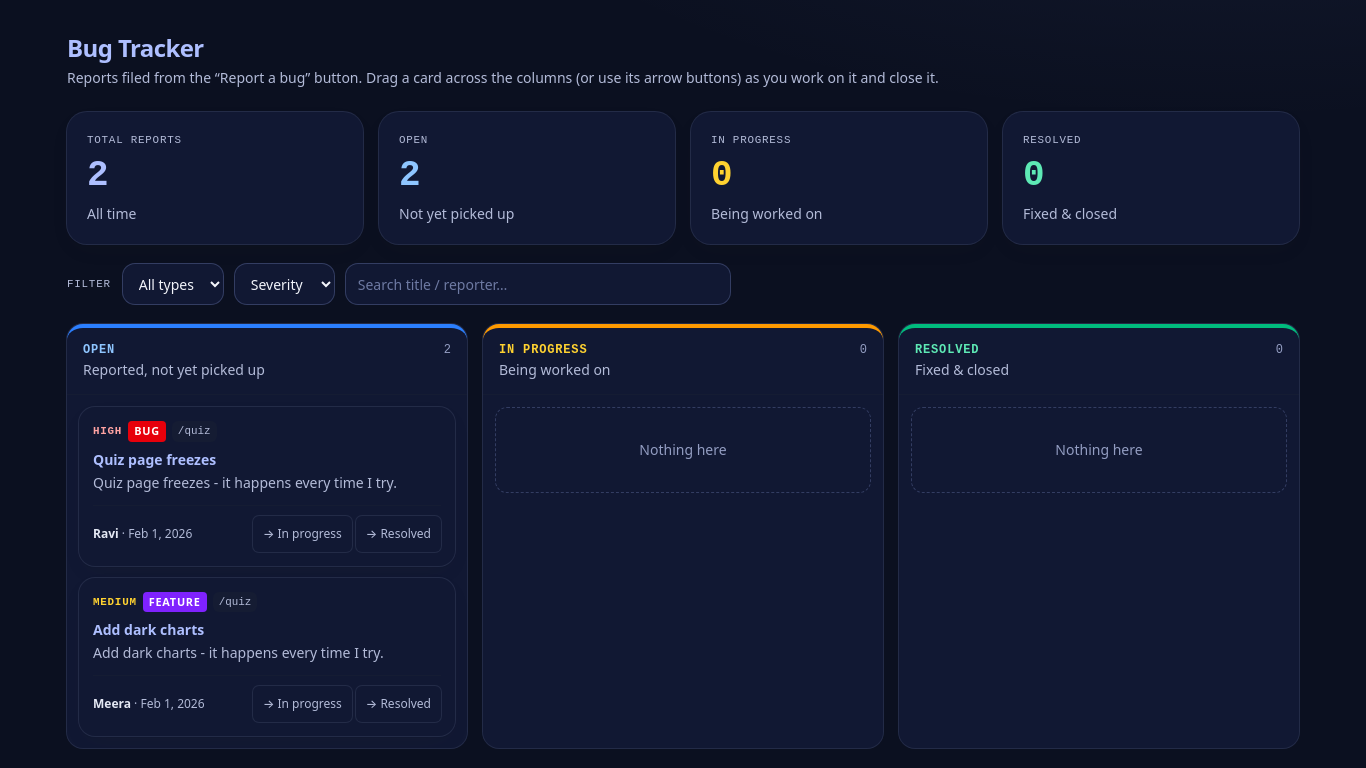
Test: Bug Tracker board › filters by type, severity and title/reporter in the browser
Expected: the button "Quiz page freezes" is shown, [93,440,216,479]
Select "Feature" in the 1st dropdown named "Type" at point(173, 284), box [123,264,223,304]
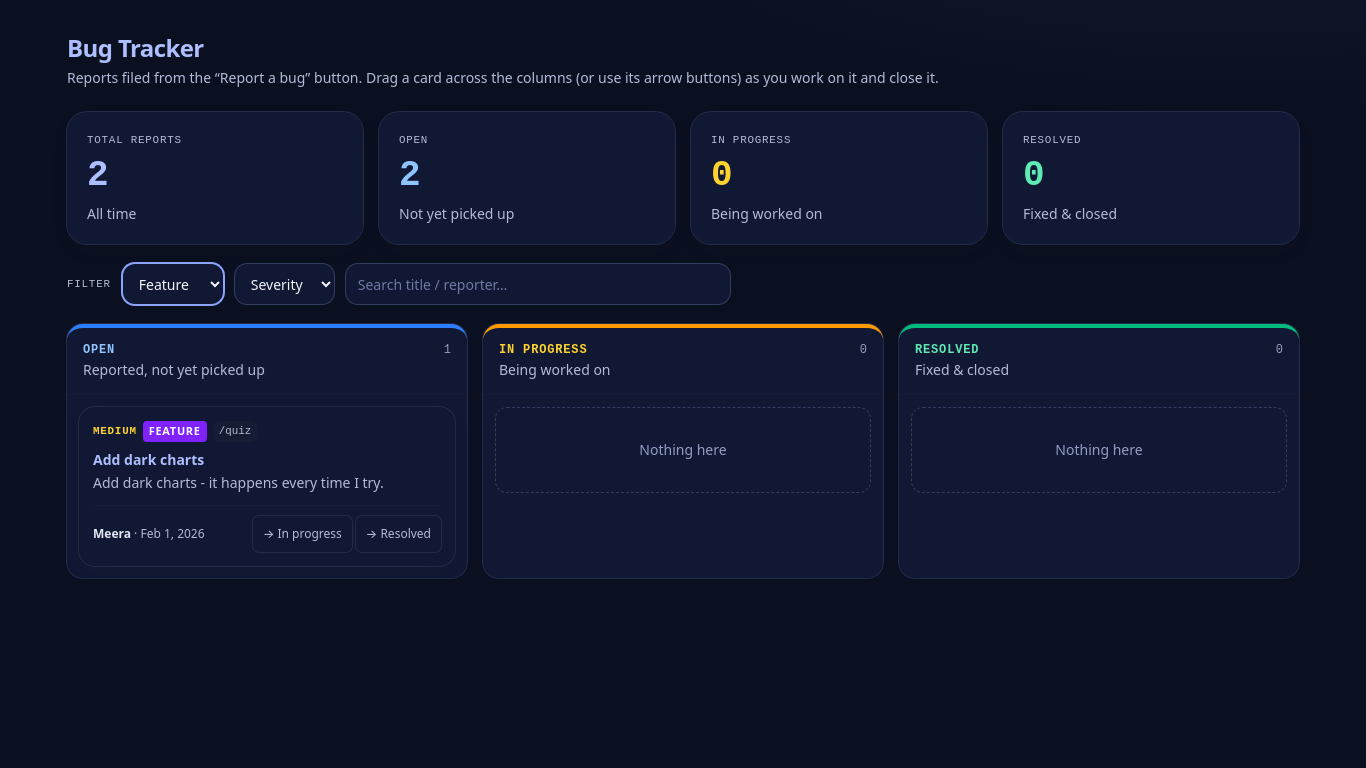
Expected: the button "Add dark charts" is shown, [93,440,204,479]
Result: the button "Quiz page freezes" is gone
Select "All types" in the 1st dropdown named "Type" at point(173, 284), box [123,264,223,304]
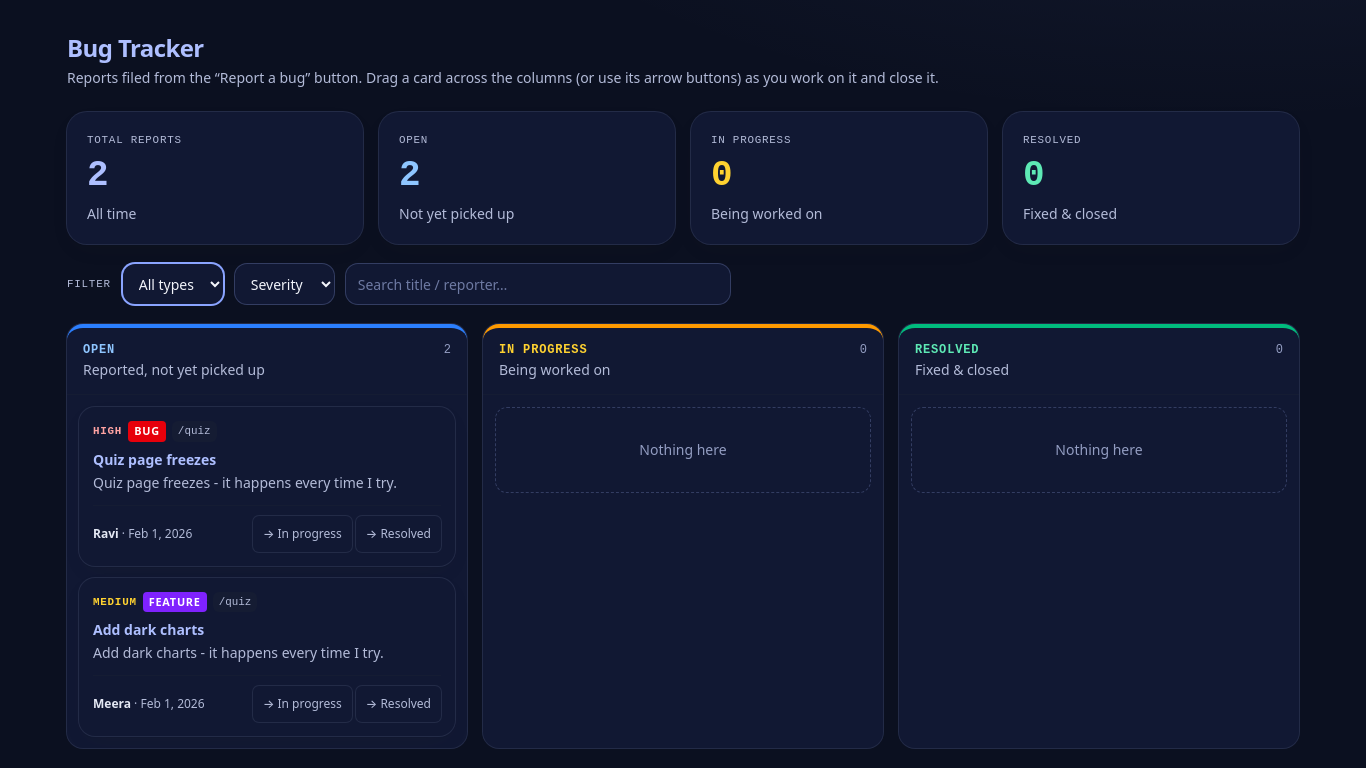
Select "High" in the 2nd dropdown named "Severity" at point(284, 284), box [235,264,334,304]
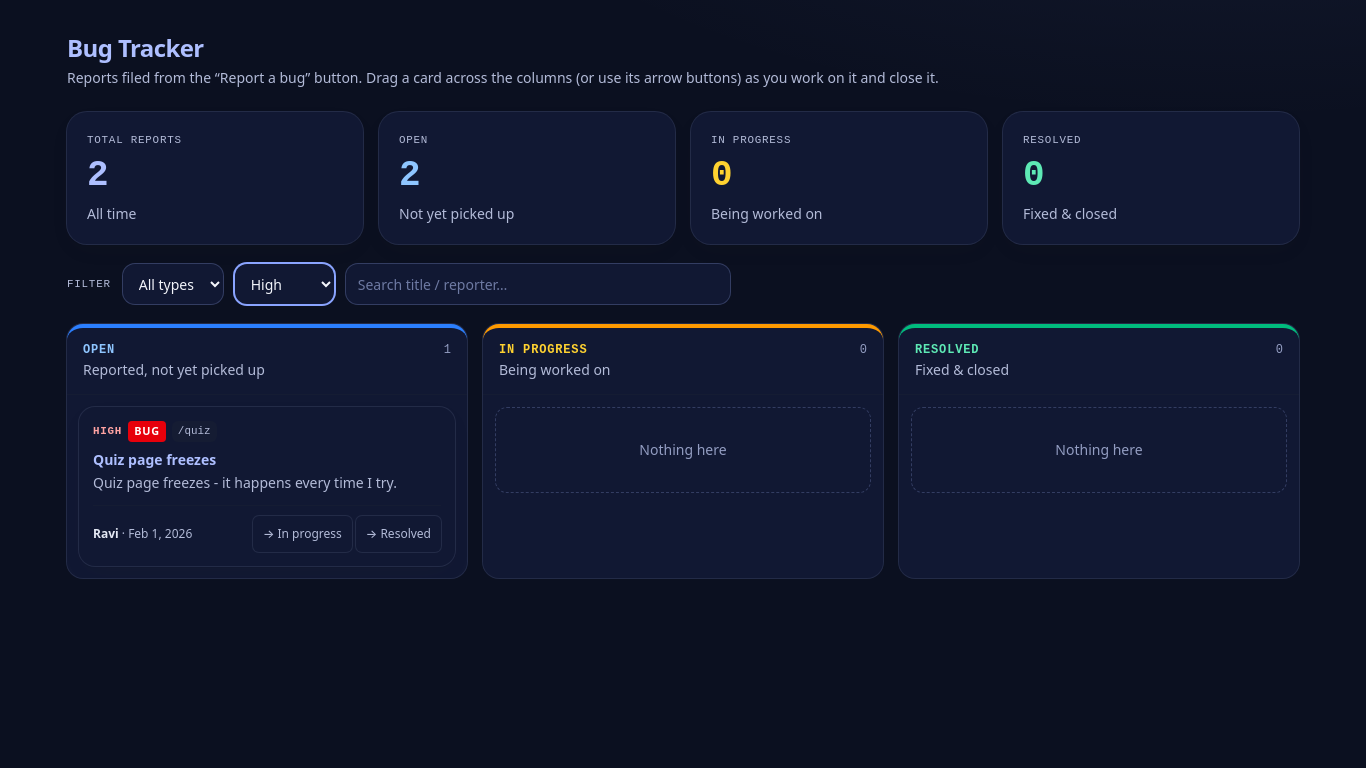
Result: the button "Add dark charts" is gone
Select "Severity" in the 2nd dropdown named "Severity" at point(284, 284), box [235,264,334,304]
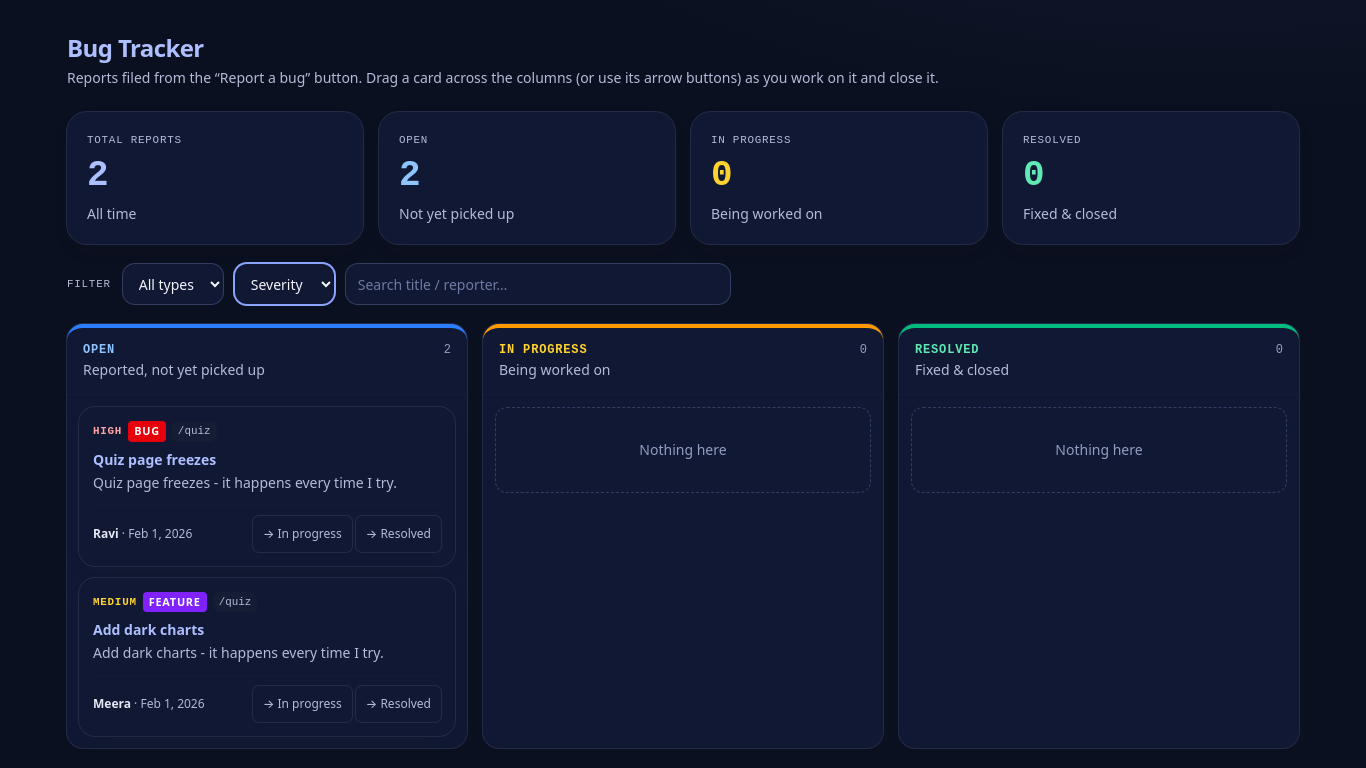
Type "meera" into the search field named "Search title or reporter".
click(538, 284); type("meera")  # box [346,264,730,304]
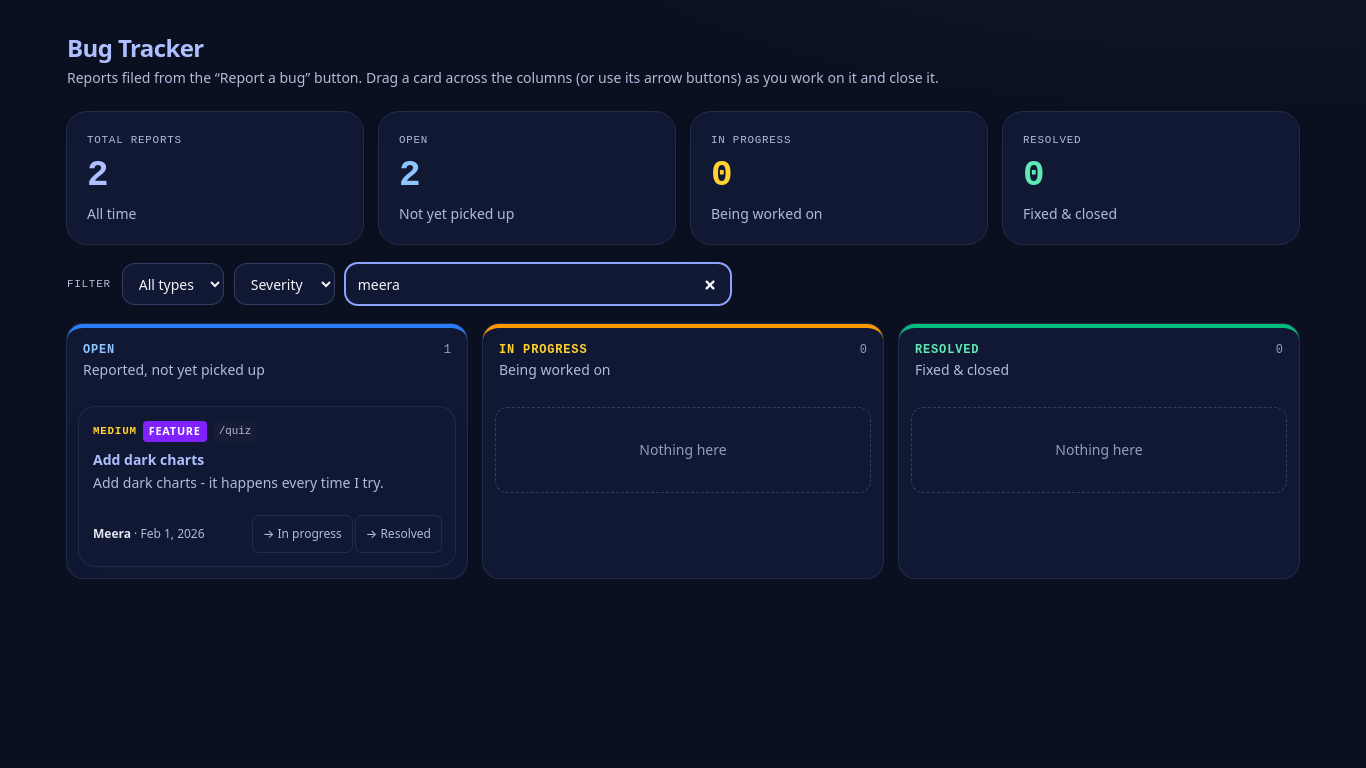
Result: the button "Add dark charts" is shown at [93,440,204,479]
Result: the button "Quiz page freezes" is gone
